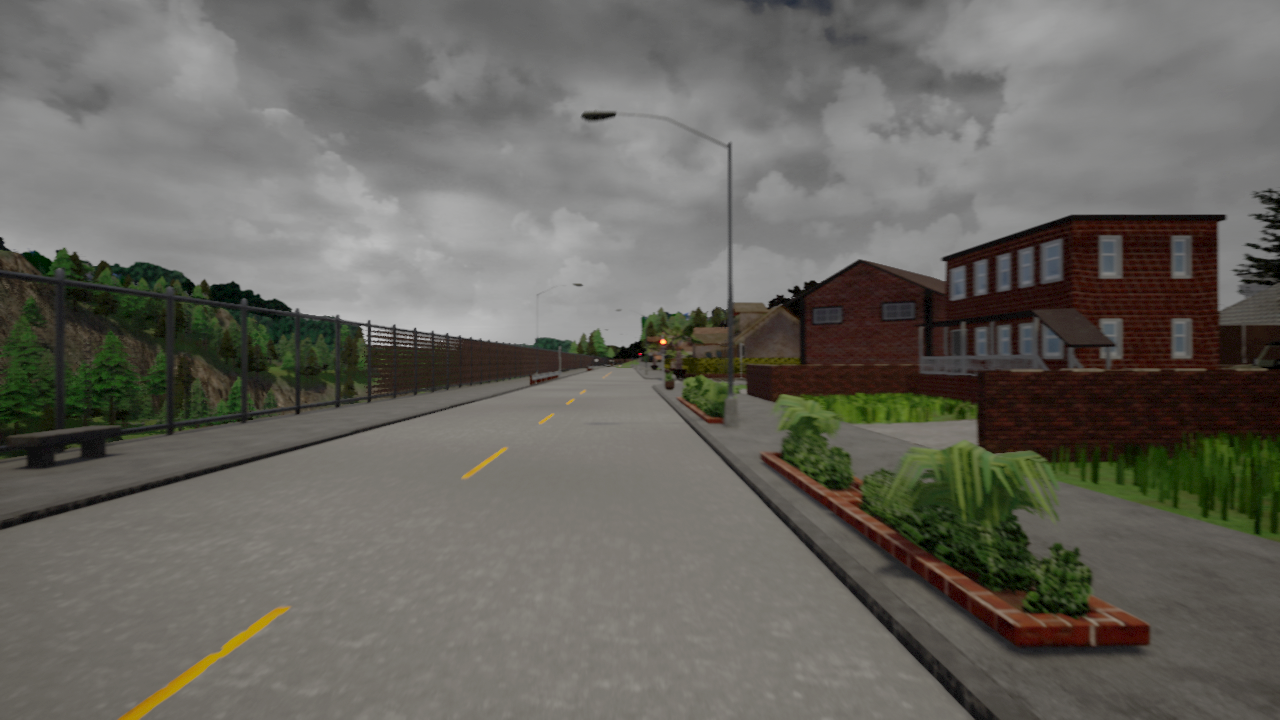red: (659, 338, 666, 354)
